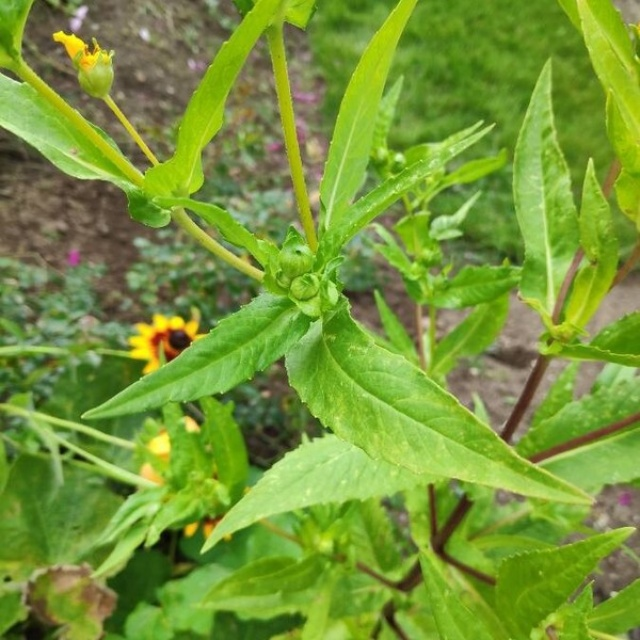obstacle: (137, 111, 602, 625)
